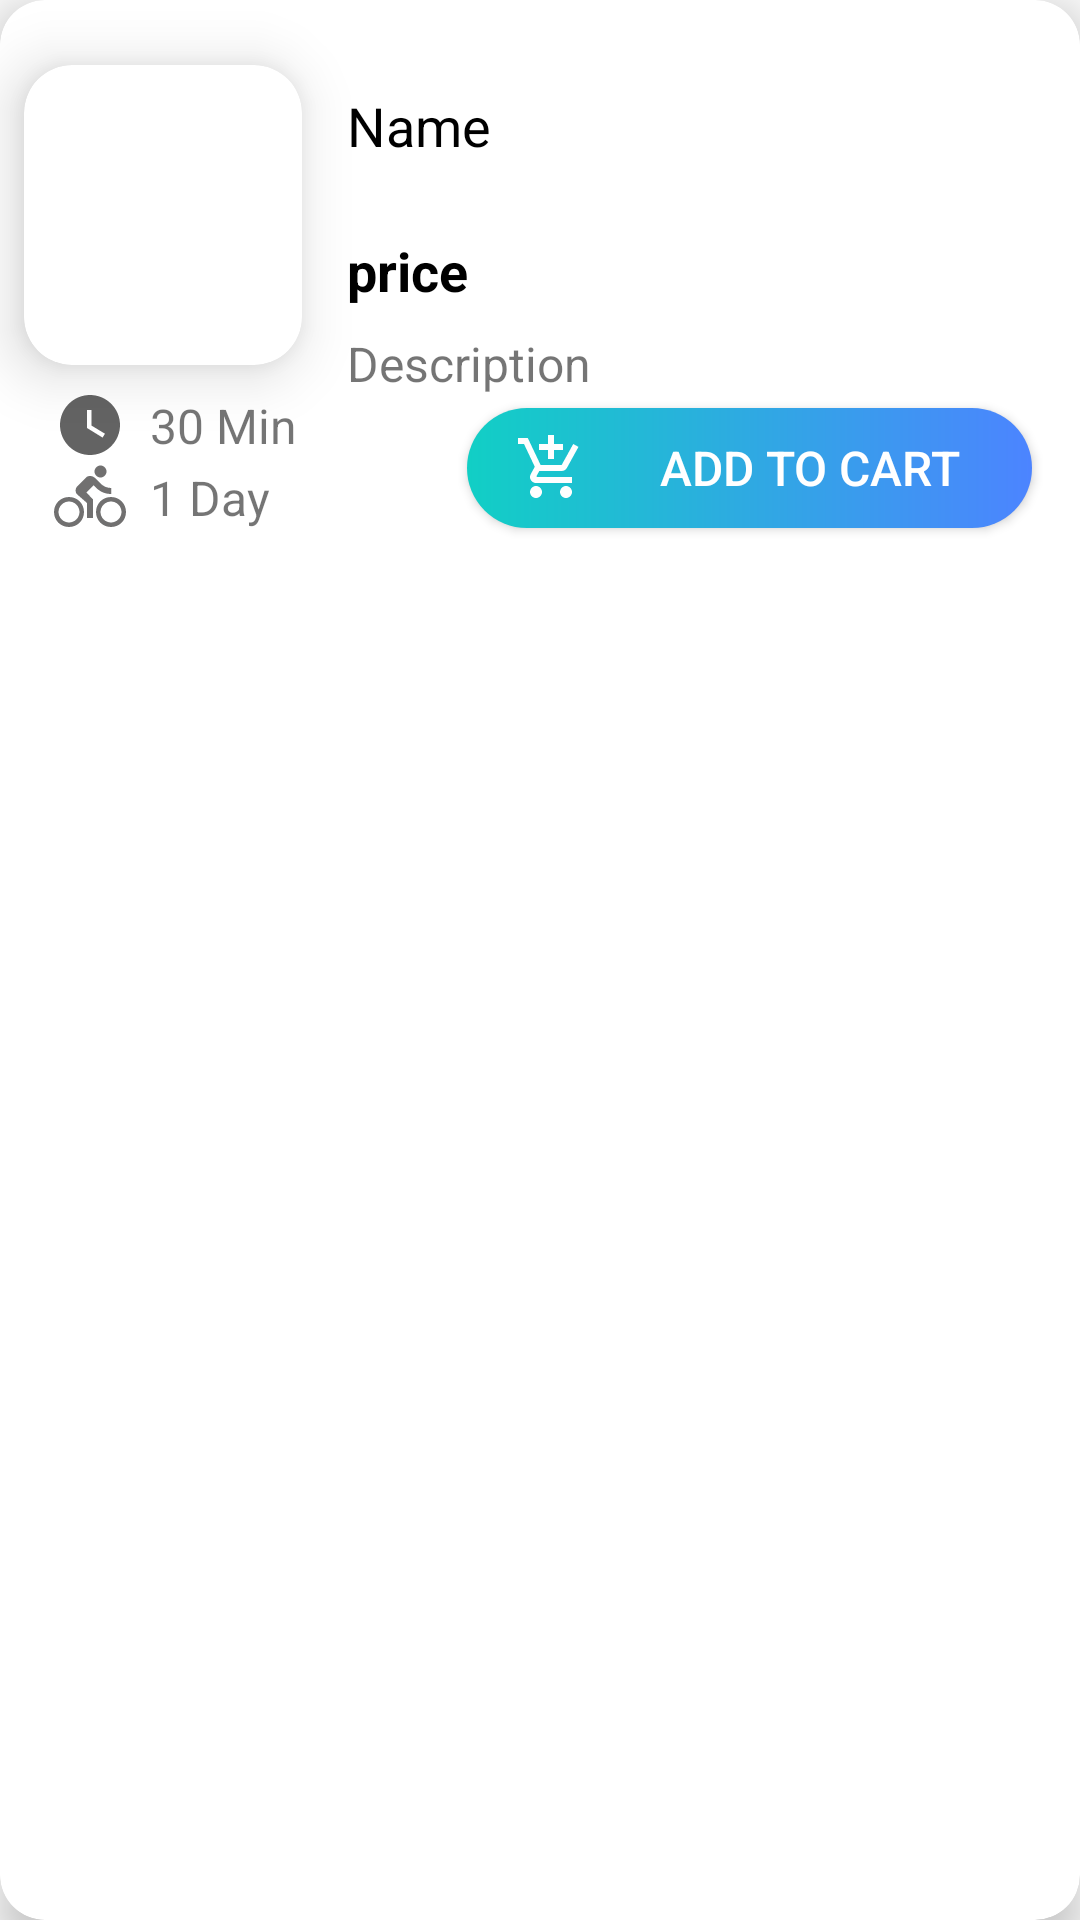

Named icons in this screenshot (1080×1920) and their bounding boxes, (x1, y1, x2, y2):
directions bike: (54, 465, 126, 527)
watch later: (60, 395, 120, 455)
